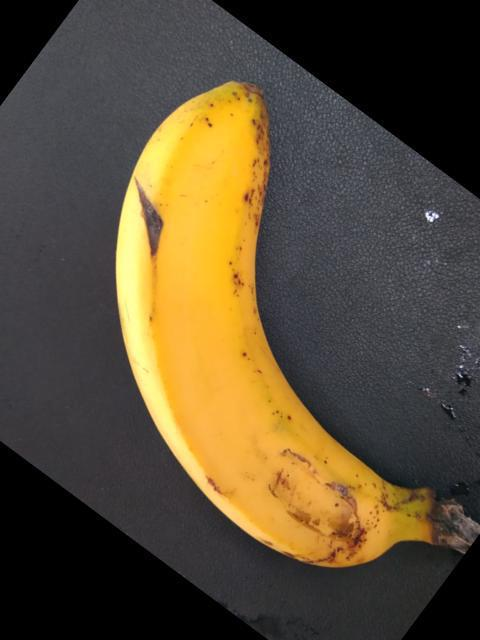ripe: (99, 78, 462, 620)
